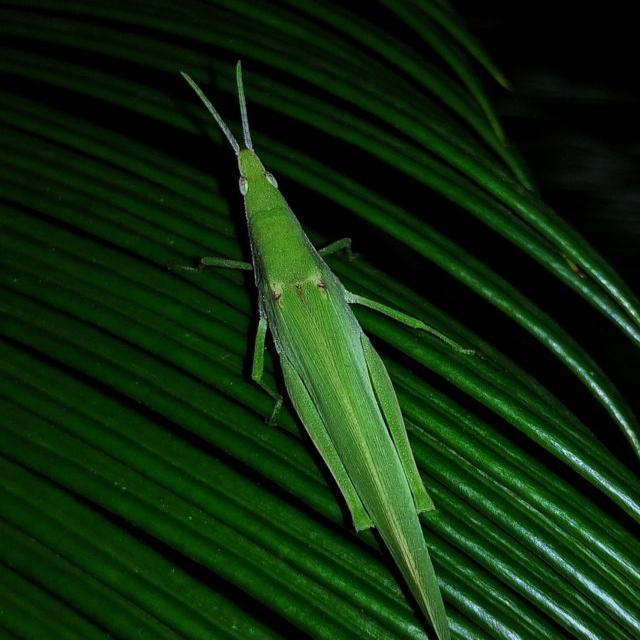ZhaMeng: (152, 45, 454, 598)
